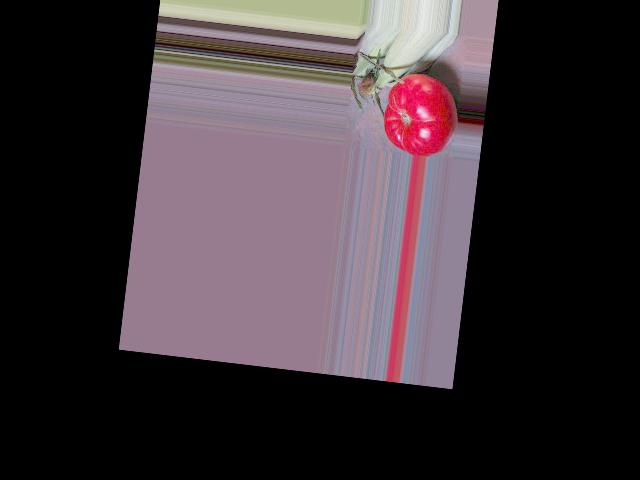tomato: (380, 70, 462, 159)
